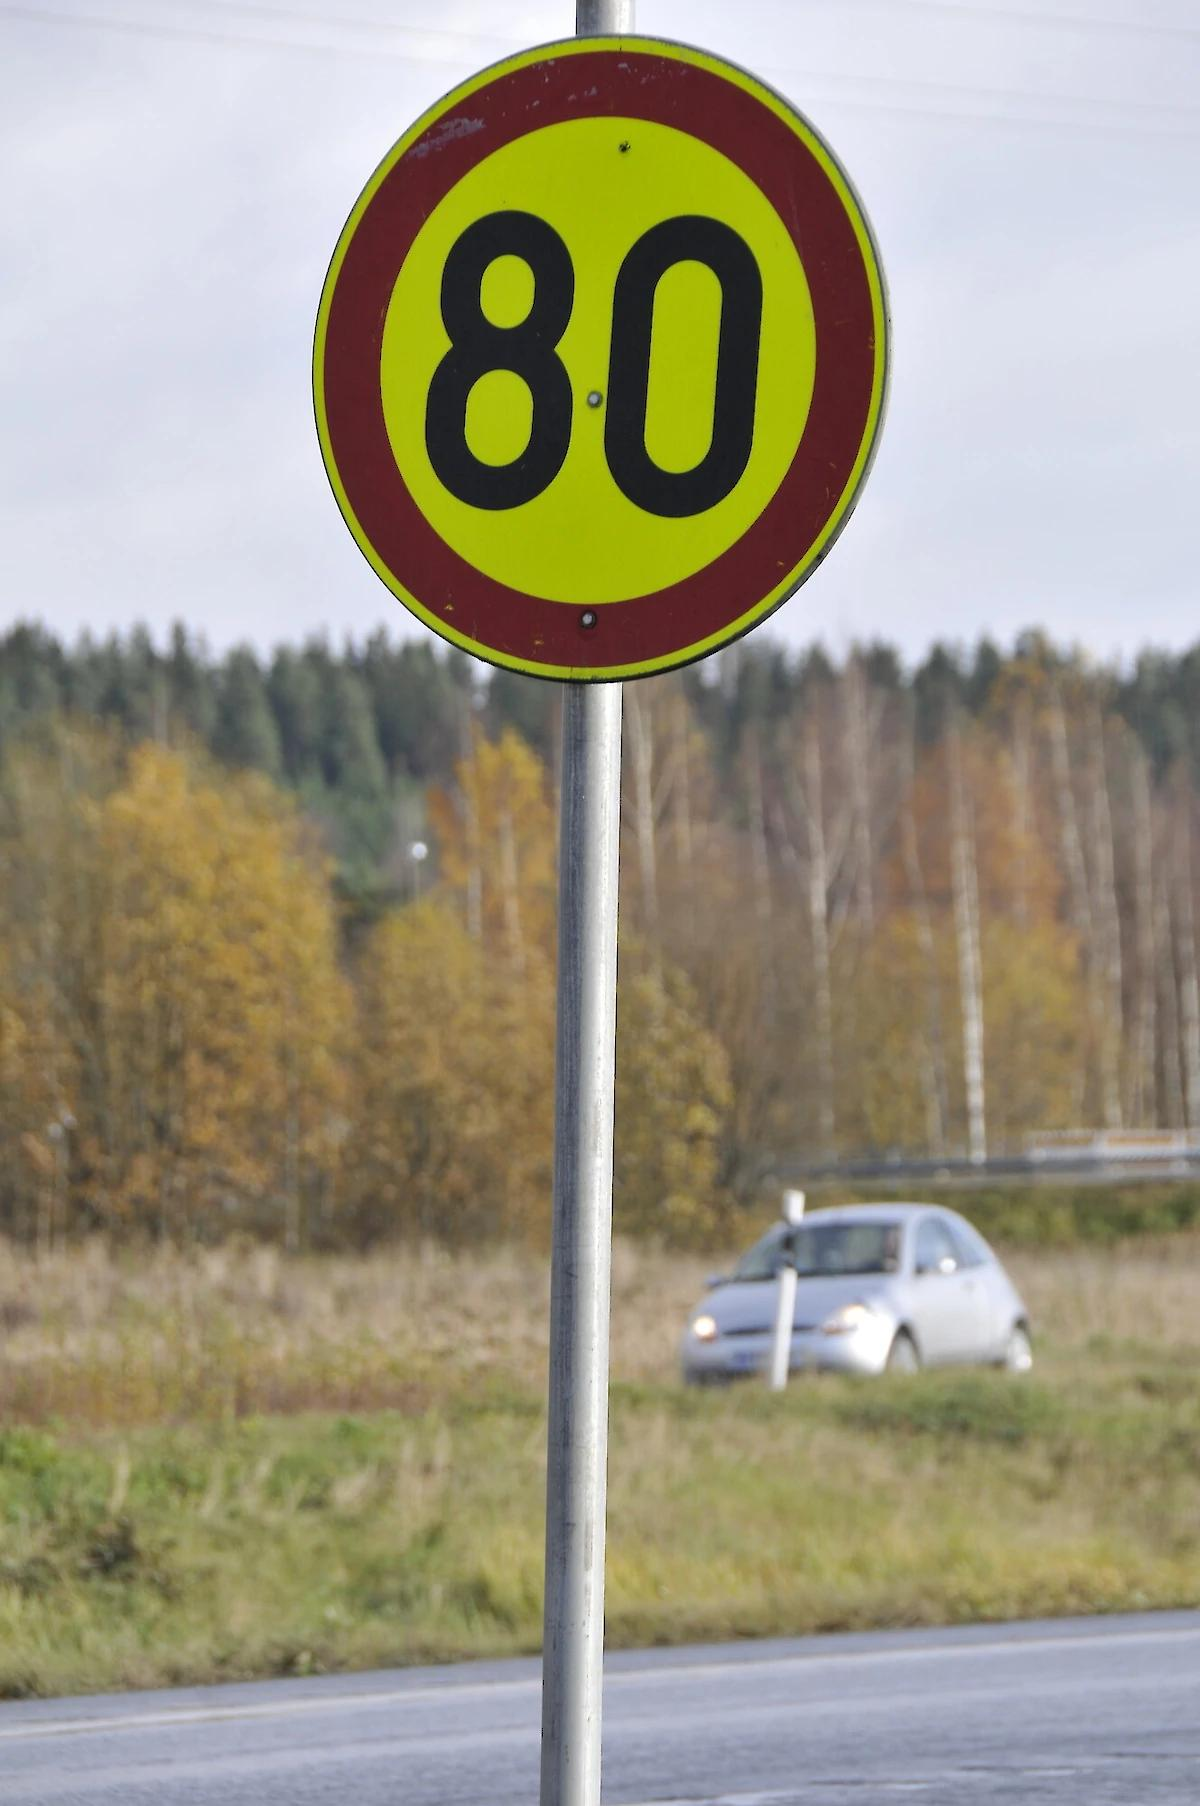car: (640, 1169, 1082, 1428)
traffic sign: (200, 17, 991, 1798)
